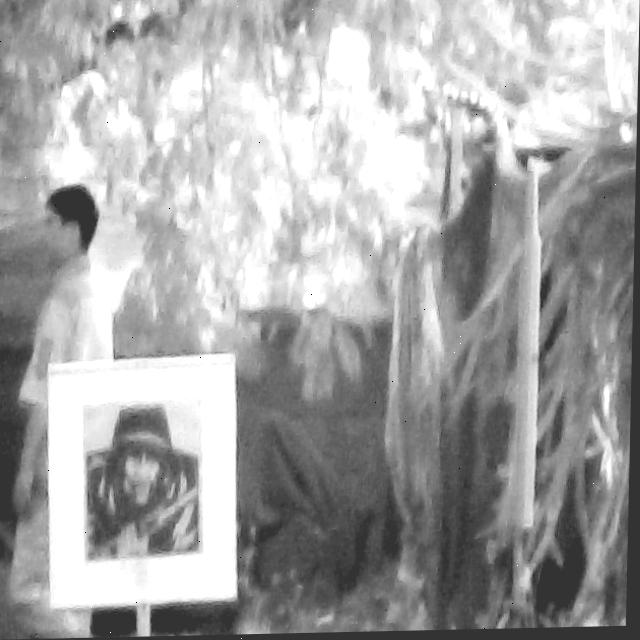bia: (84, 395, 205, 561)
